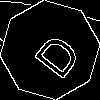D: (25, 25, 83, 82)
